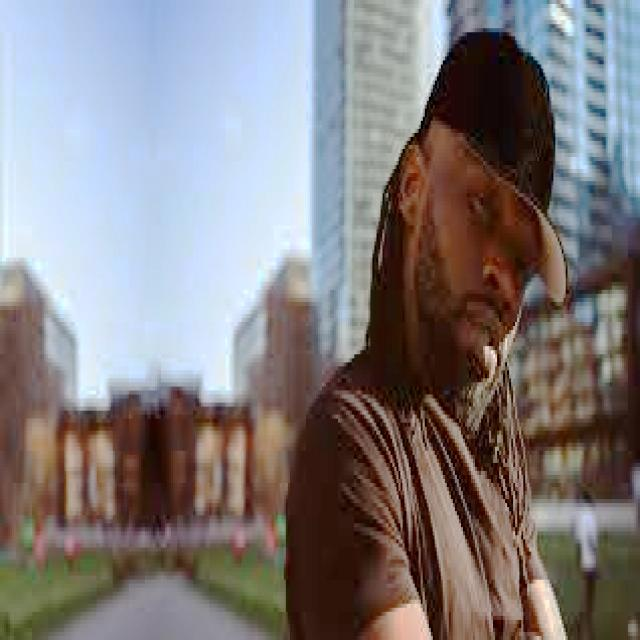TOPI: (418, 16, 572, 318)
